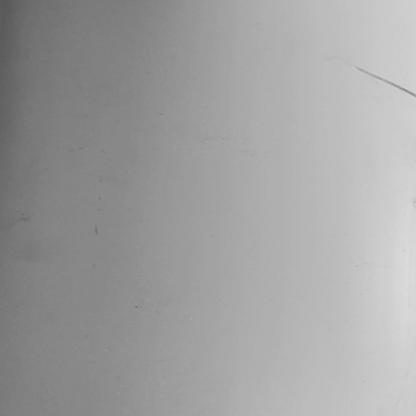sunshang: (348, 65, 416, 98)
